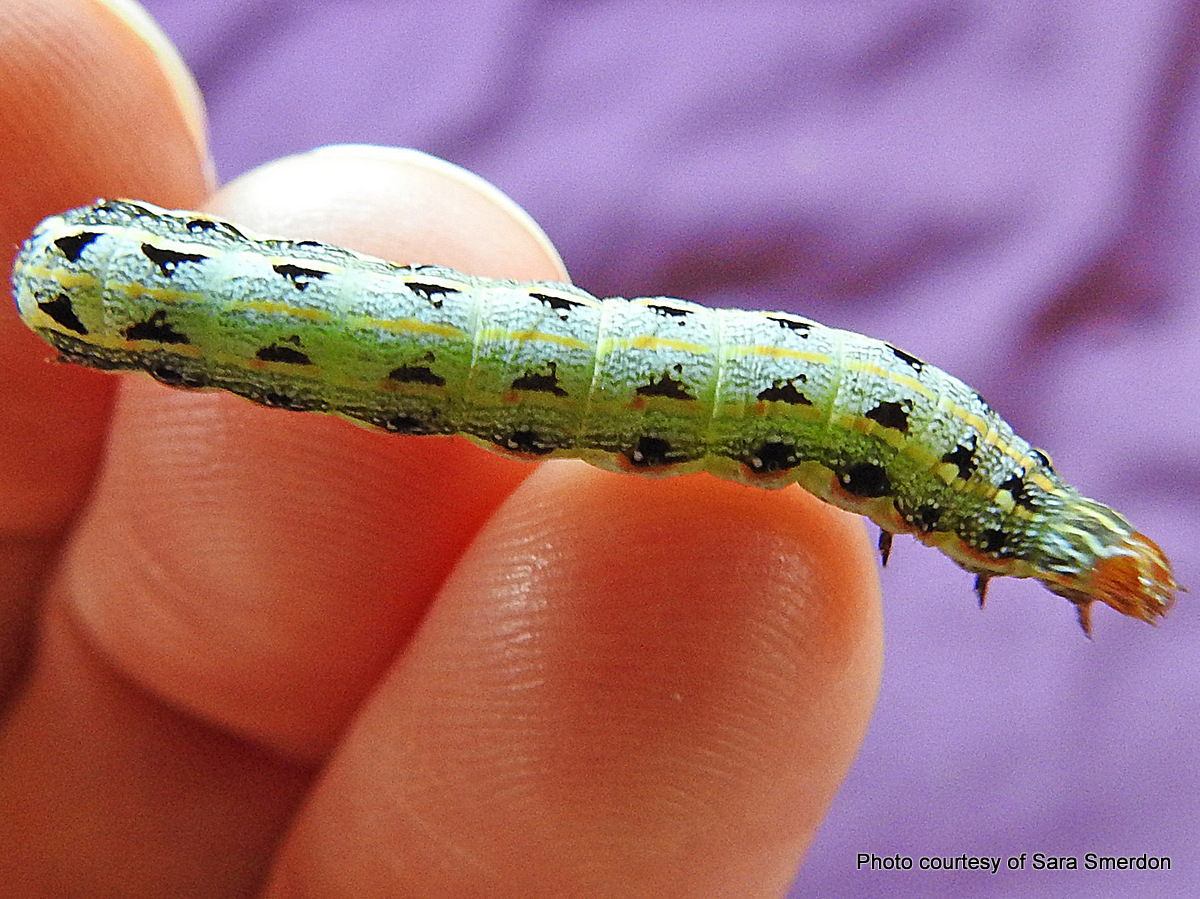Armyworm: (9, 171, 1194, 657)
